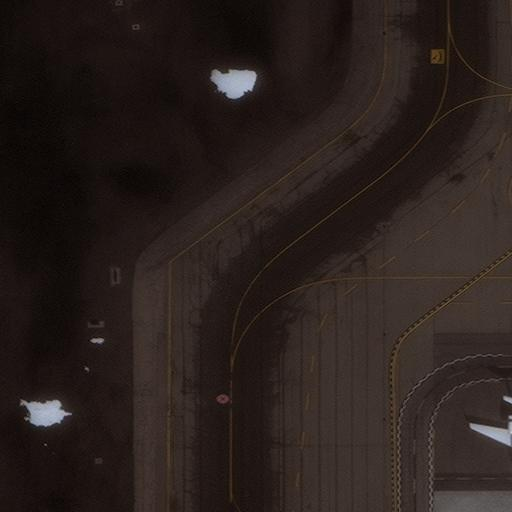Medium Civil Transport: (469, 402, 511, 469)
